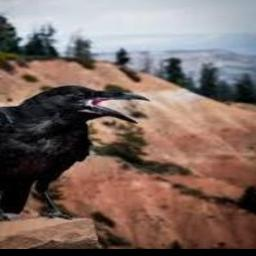Crow: (0, 85, 149, 213)
